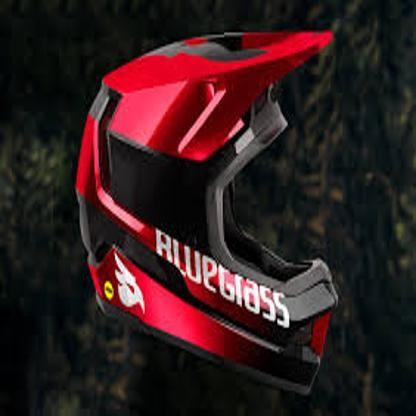not trash: (75, 29, 344, 398)
